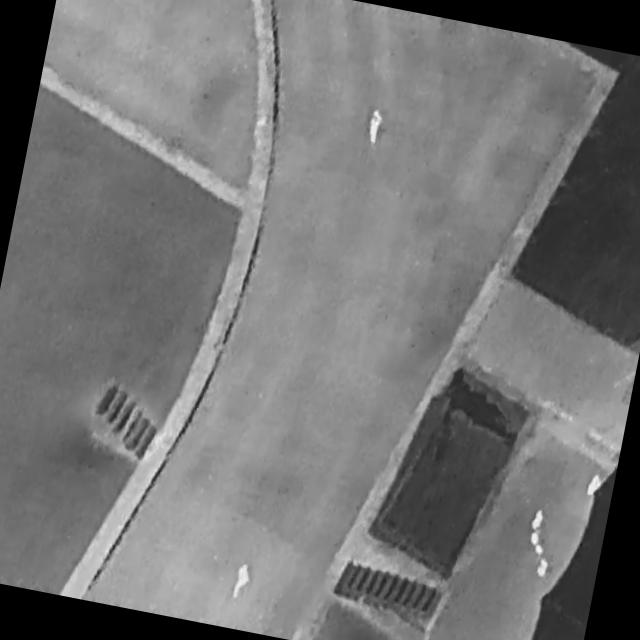person: (363, 106, 389, 149), (232, 560, 255, 603)
